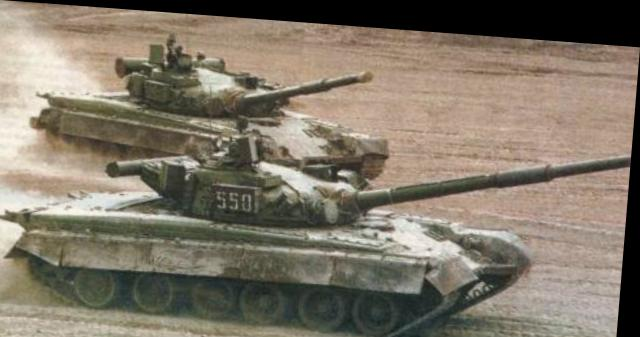tank: (16, 125, 559, 336), (22, 23, 395, 168)
